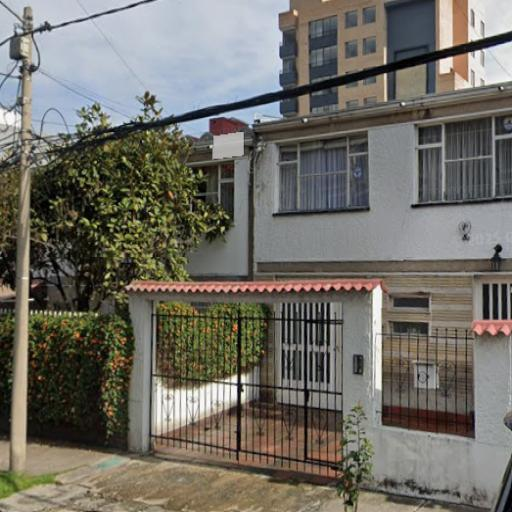Casa: (126, 86, 512, 503), (275, 0, 493, 122)
postes: (8, 8, 41, 482)
